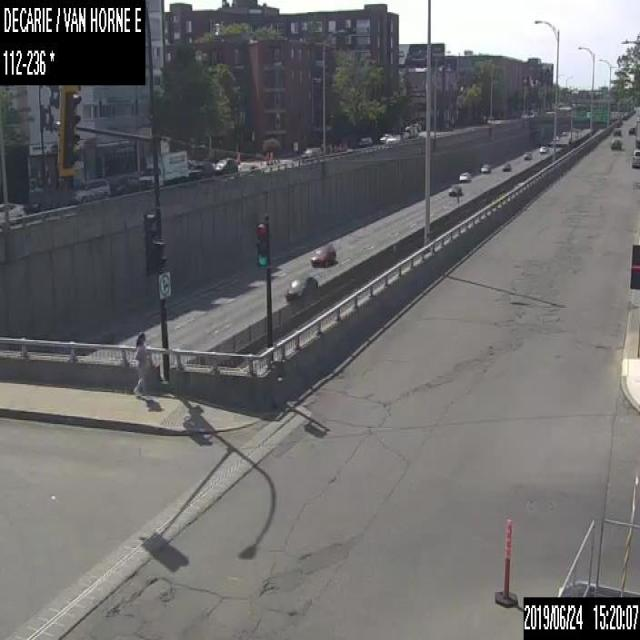construction: (493, 514, 520, 606), (268, 151, 272, 164), (266, 151, 268, 163)
pedestrian: (132, 331, 146, 395)
vehicle: (138, 149, 187, 188), (285, 272, 318, 300), (72, 178, 108, 203), (309, 244, 335, 265), (187, 160, 213, 179), (212, 156, 238, 173), (0, 200, 24, 216), (300, 146, 319, 159), (447, 184, 461, 196), (357, 135, 372, 146), (631, 146, 639, 166), (634, 115, 639, 147), (458, 170, 471, 181), (610, 136, 620, 149), (479, 161, 490, 172), (379, 132, 391, 142), (501, 161, 511, 171), (522, 149, 531, 159), (612, 126, 620, 136), (538, 144, 546, 152), (627, 126, 634, 135)
